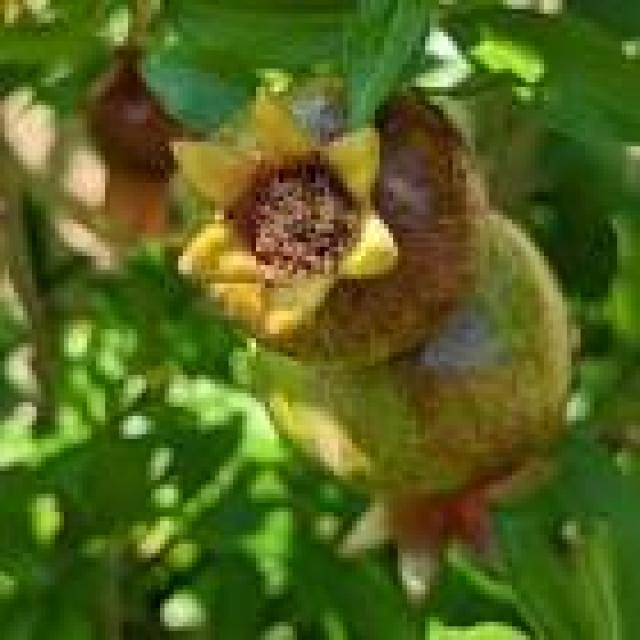Unripe: (172, 66, 481, 372)
